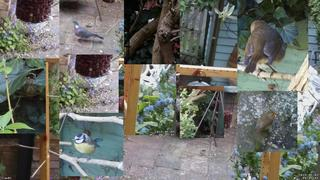blue tit: (72, 133, 103, 163)
robin: (243, 20, 288, 79), (254, 111, 278, 136)
wood pigeon: (72, 20, 104, 42)
